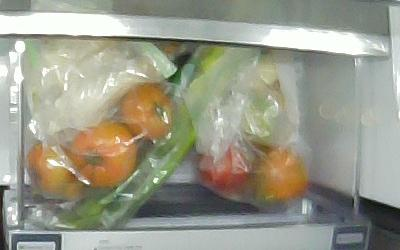tomato_vinyl: (69, 118, 137, 187), (25, 140, 83, 200), (249, 143, 308, 200), (117, 82, 174, 140), (193, 142, 252, 192)
